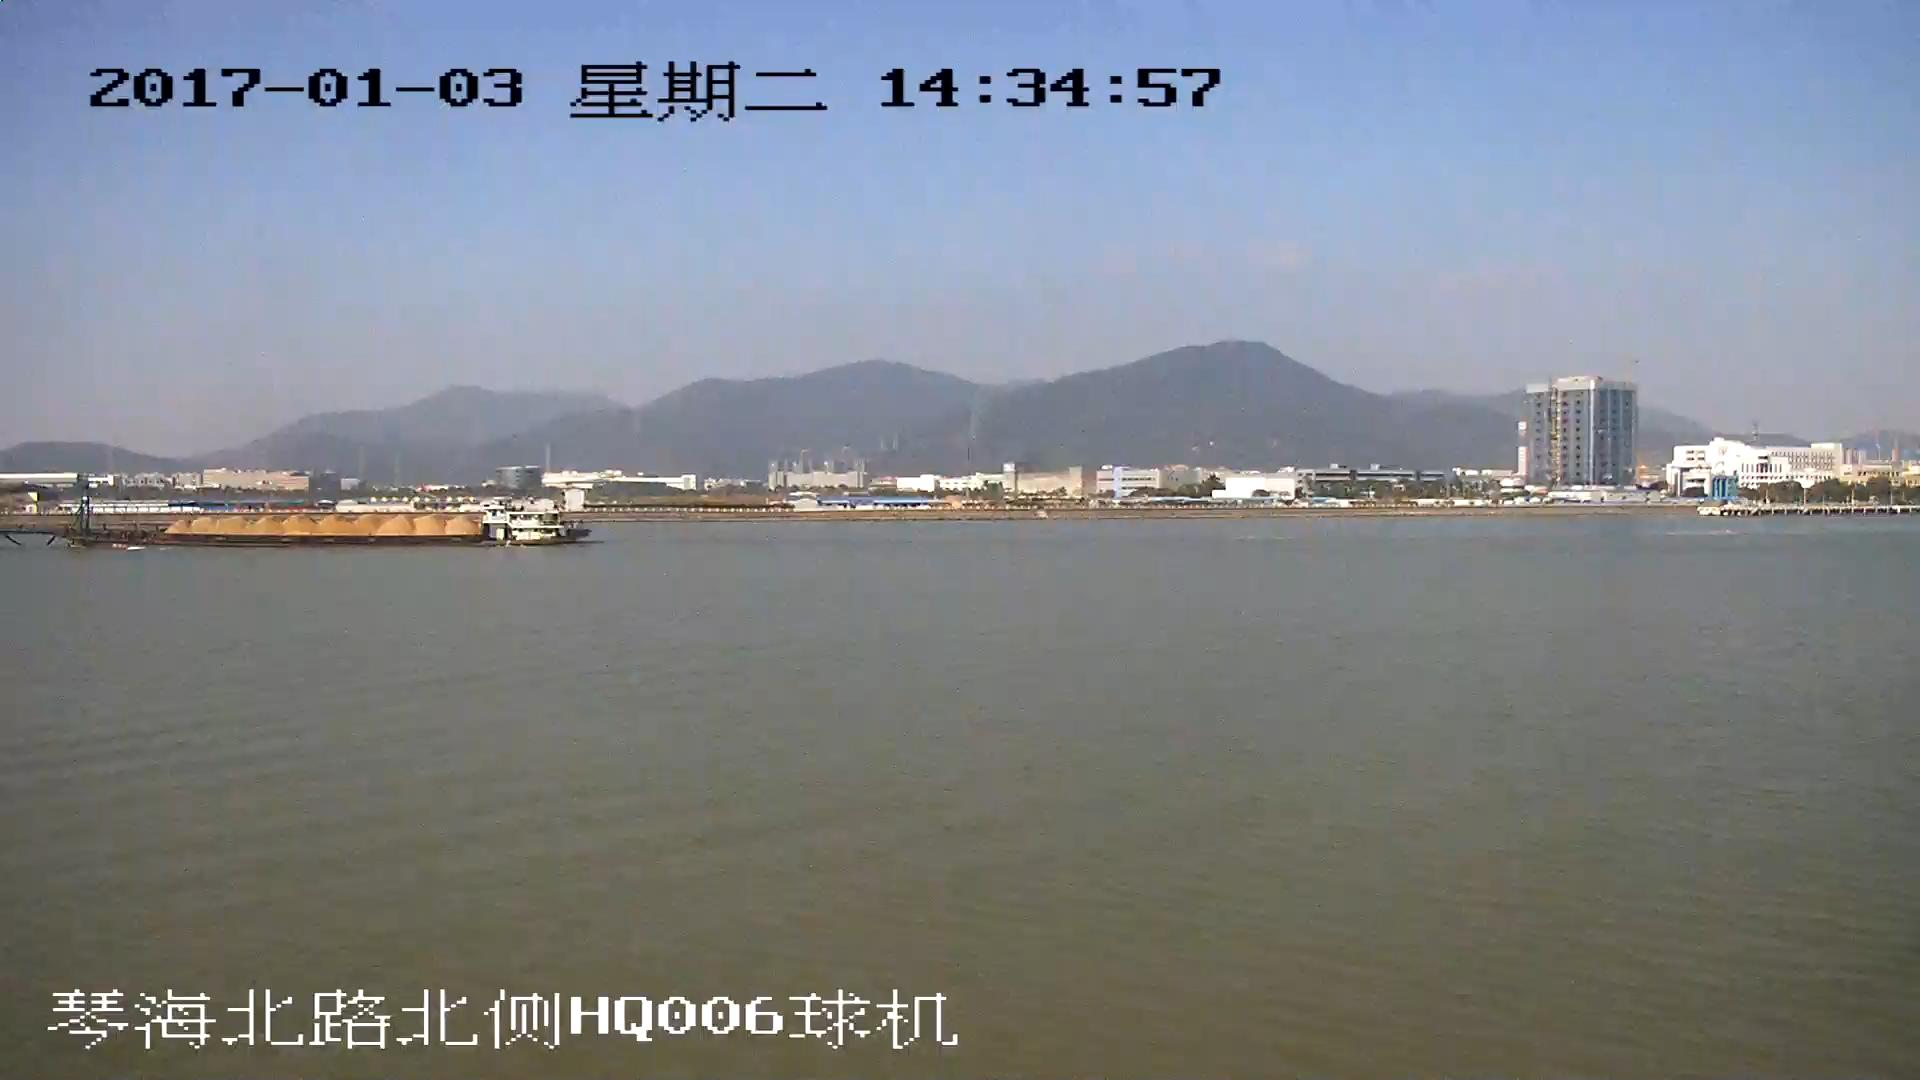ore carrier: (1, 485, 591, 545)
